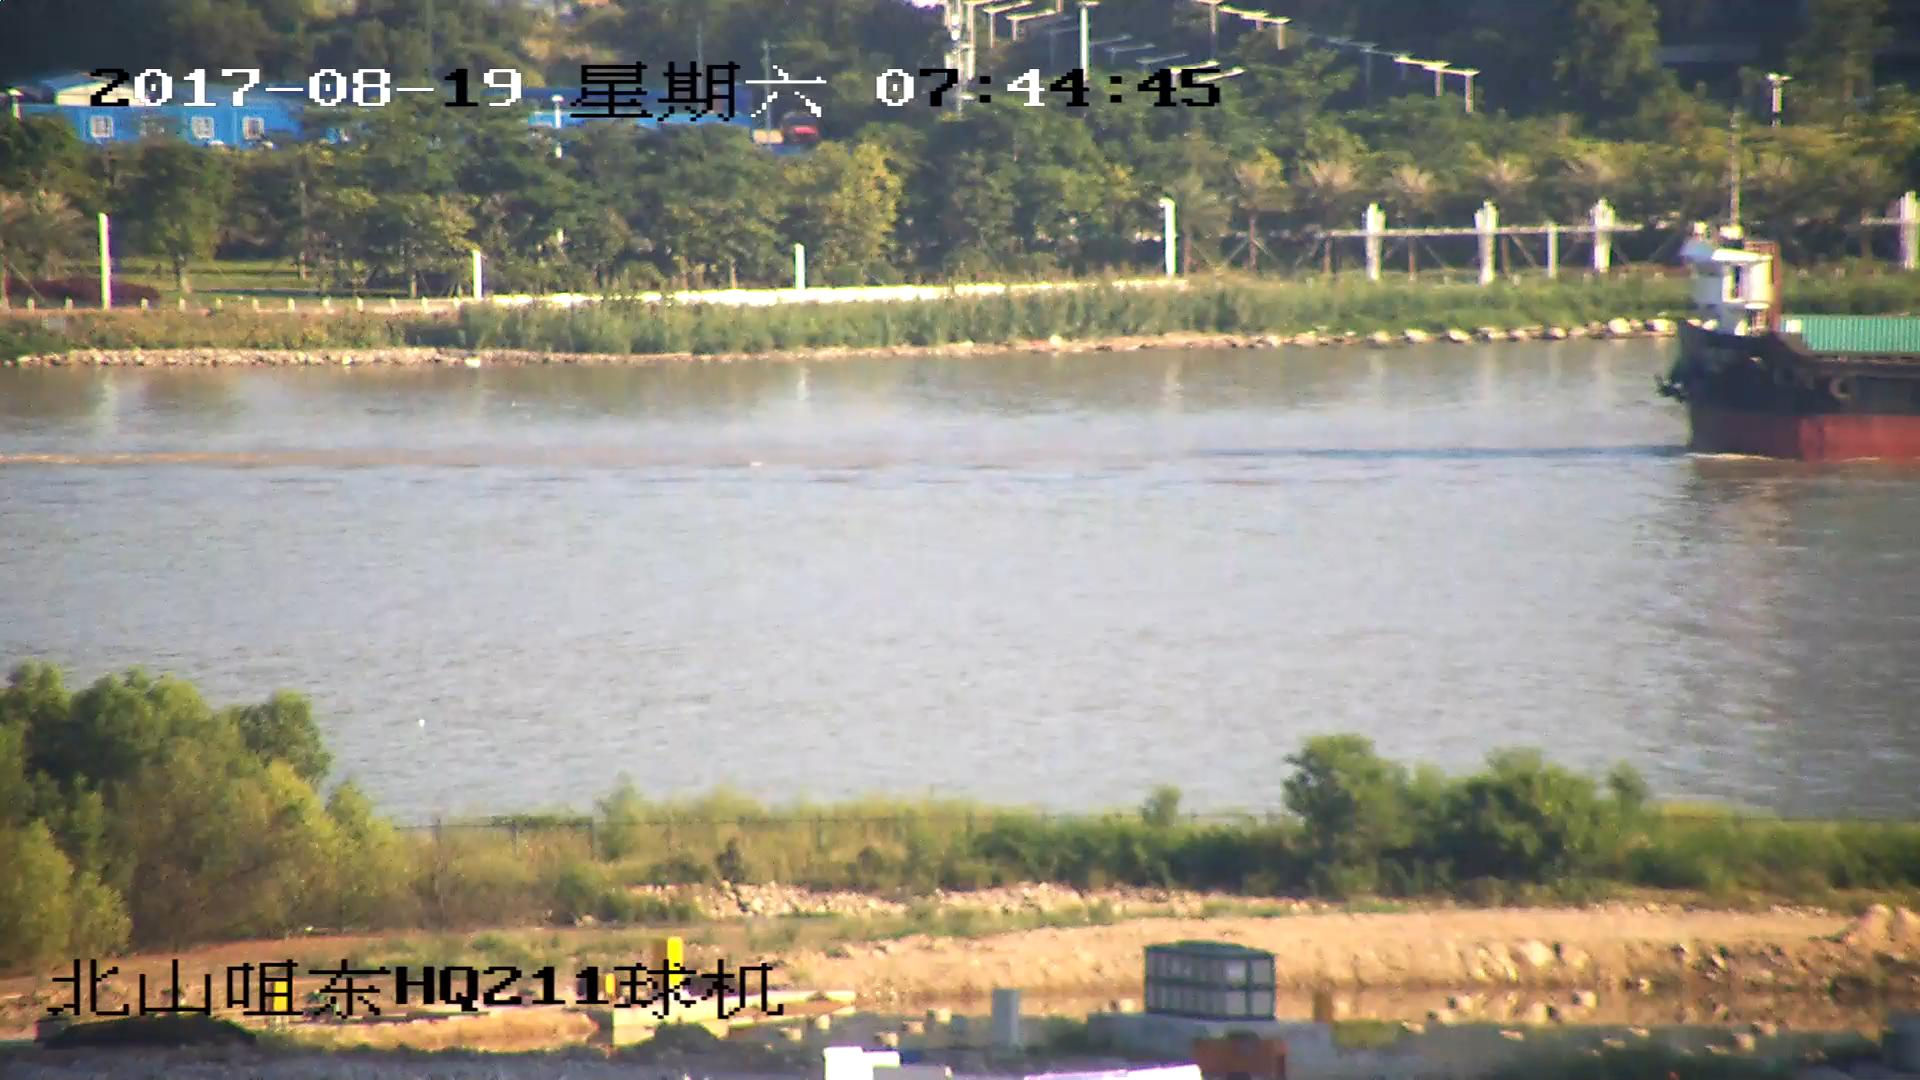container ship: (1648, 224, 1920, 456)
